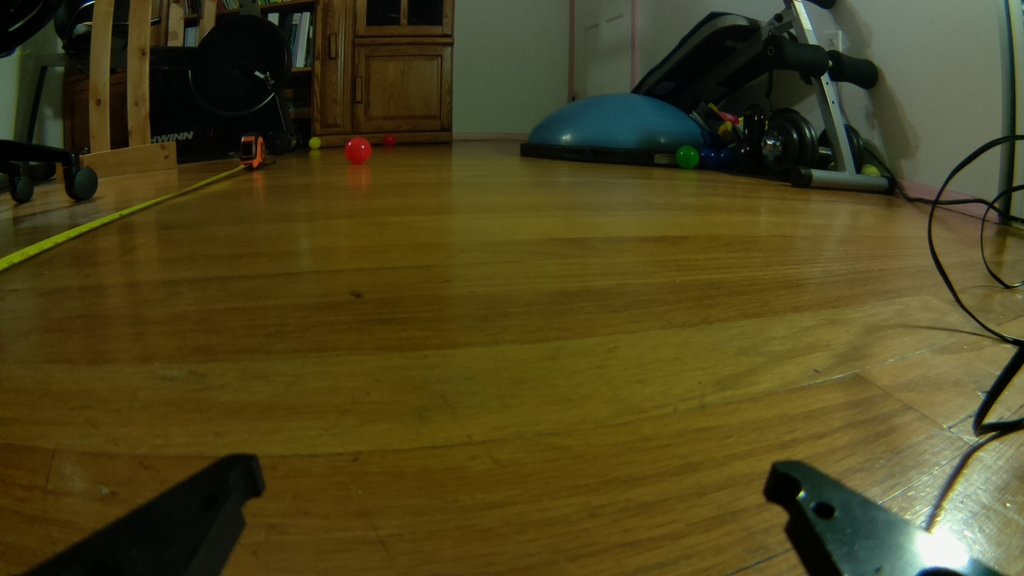ball: (343, 136, 372, 165)
